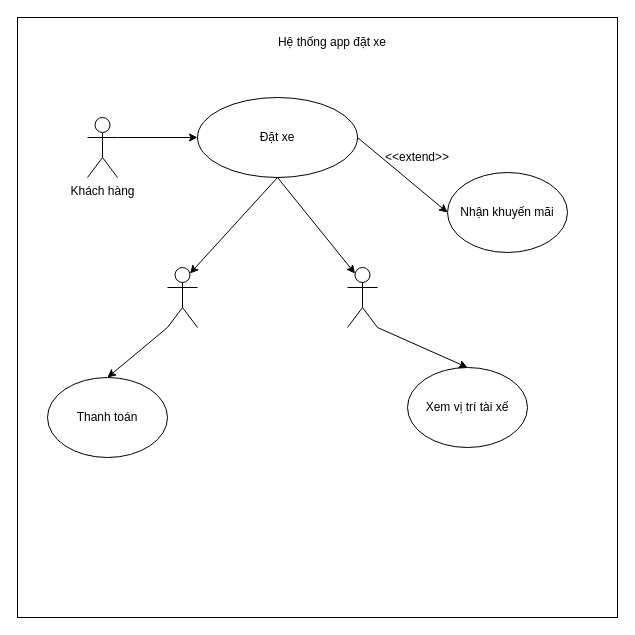
Image size: 635x635. Some labels were removed from this diagram. The box of each missing label's shape, as (x1, y1, x2, y2) in pixels:
Hệ thống thanh toán: (166, 266, 198, 328)
Tài xế: (346, 266, 378, 328)
